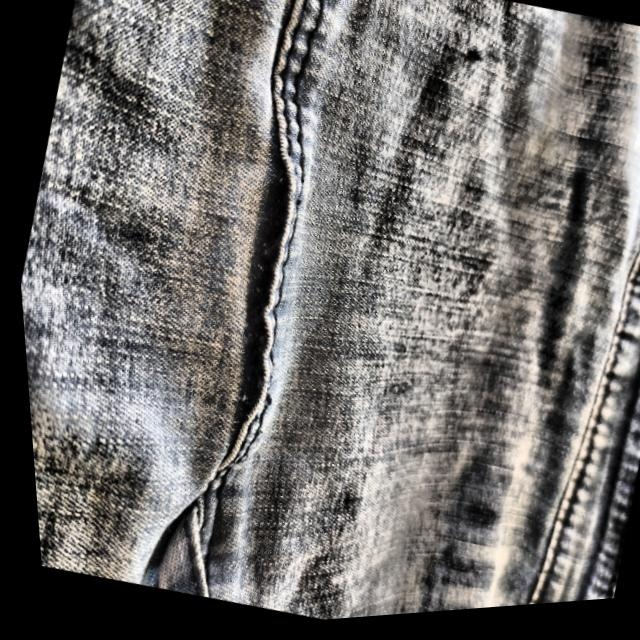seam: (137, 62, 377, 502)
